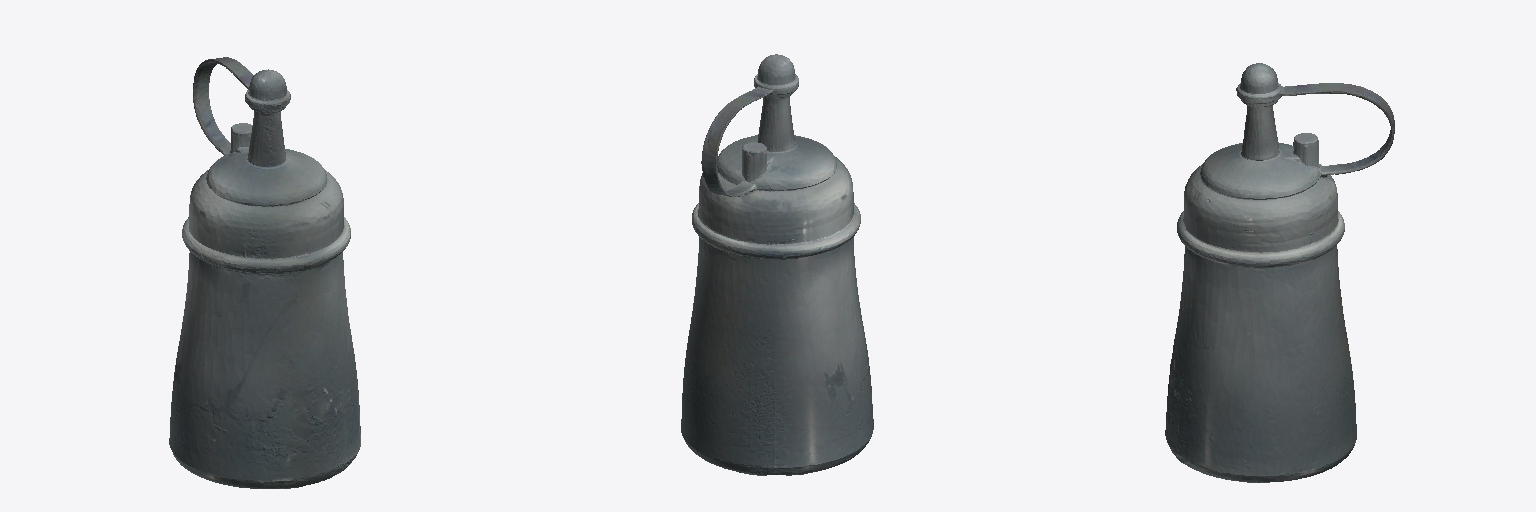
3 renders of one model, left to right at view 1: azimuth 30°, elevation 25°; view 2: azimuth 150°, elevation 25°; view 3: azimuth 270°, elevation 25°, orthographic.
Visible parts, largest first — view 1: Scan.022; view 2: Scan.022; view 3: Scan.022.
Part boxes in pixels (bbox=[...]): Scan.022: bbox=[169, 57, 360, 488]; Scan.022: bbox=[681, 54, 873, 475]; Scan.022: bbox=[1165, 63, 1394, 482].
Bounding box in the file's own units: 0.0662 × 0.1454 × 0.0788.
Materials: 1 (1 with a texture image).